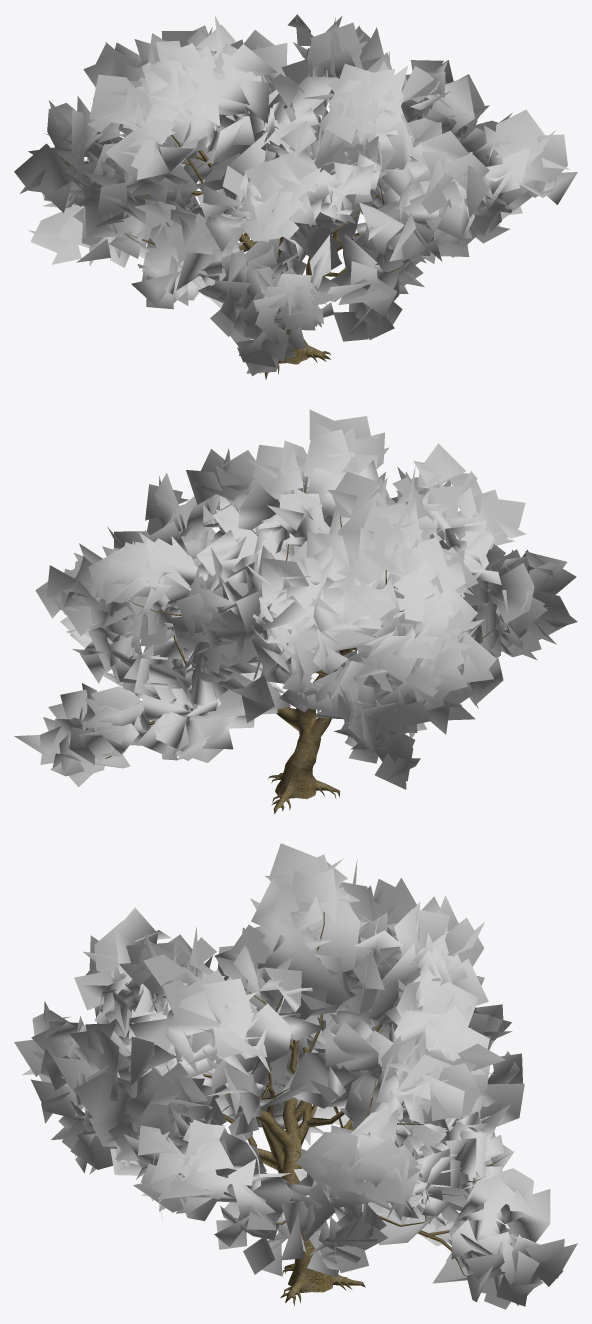
The model's file is CLX_shu_02.FBX.
3 renders of one model, top to bottom at view 1: azimuth 30°, elevation 25°; view 2: azimuth 150°, elevation 25°; view 3: azimuth 270°, elevation 25°, orthographic. The views are drawn at different scales.
Parts seen in each view (by area): view 1: CLX_shu_02; view 2: CLX_shu_02; view 3: CLX_shu_02.
Boxes of the visible parts, x1,y1,x2,y2 form: CLX_shu_02: (14, 14, 577, 379); CLX_shu_02: (14, 409, 577, 814); CLX_shu_02: (14, 843, 577, 1309).
Bounding box in the file's own units: 50.87 × 37.18 × 48.57.
